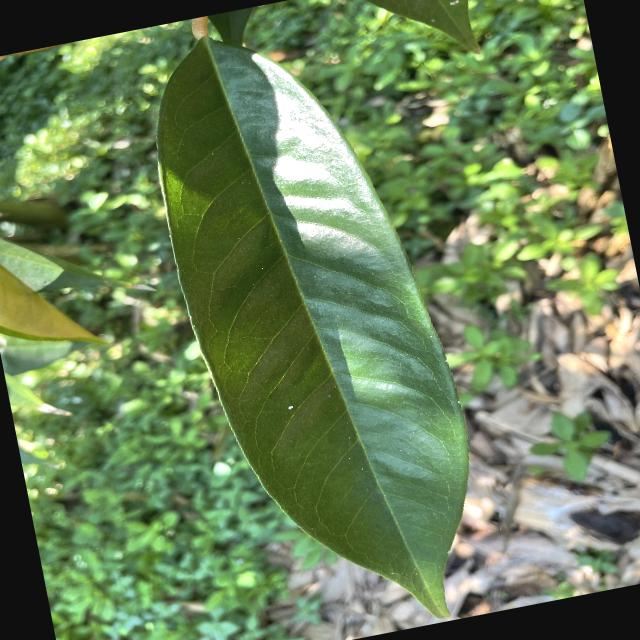No Disease: (119, 0, 508, 639)
